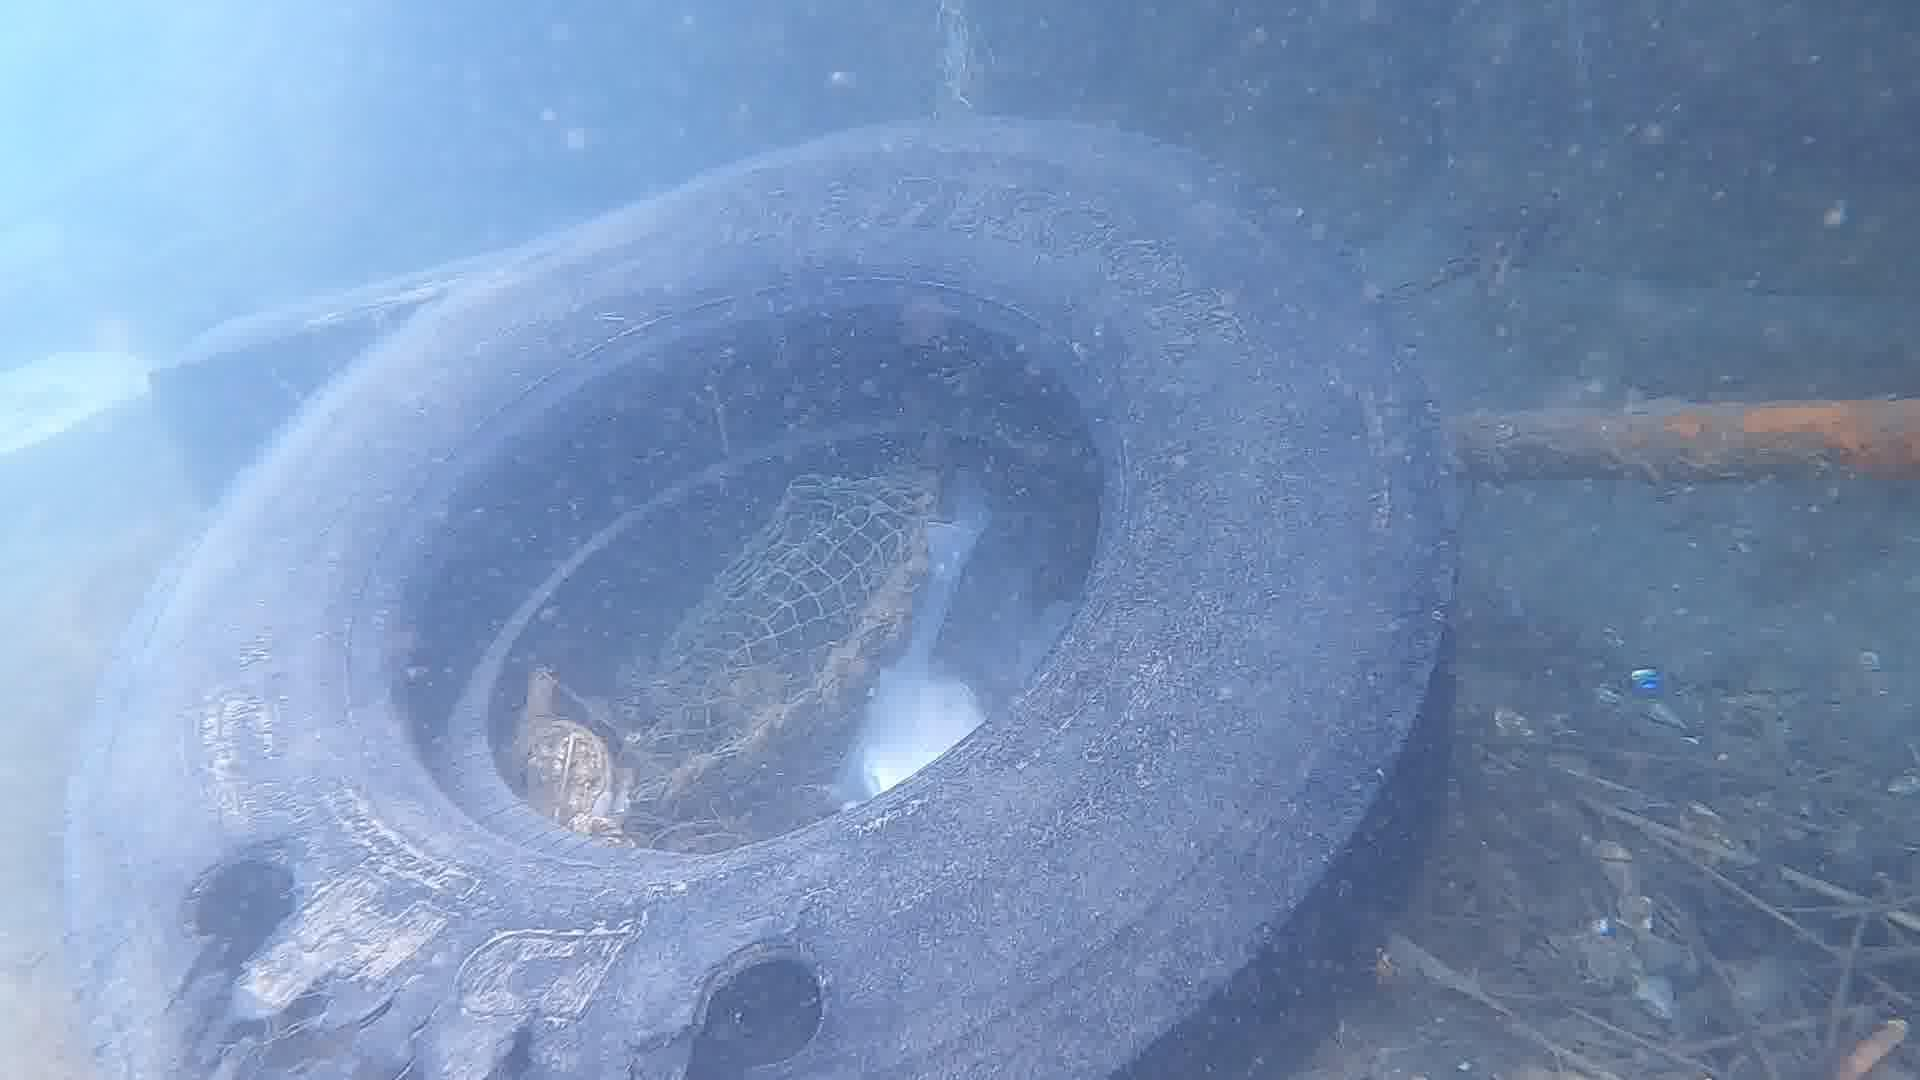fish net: (599, 469, 936, 843)
tire: (65, 113, 1466, 1080)
